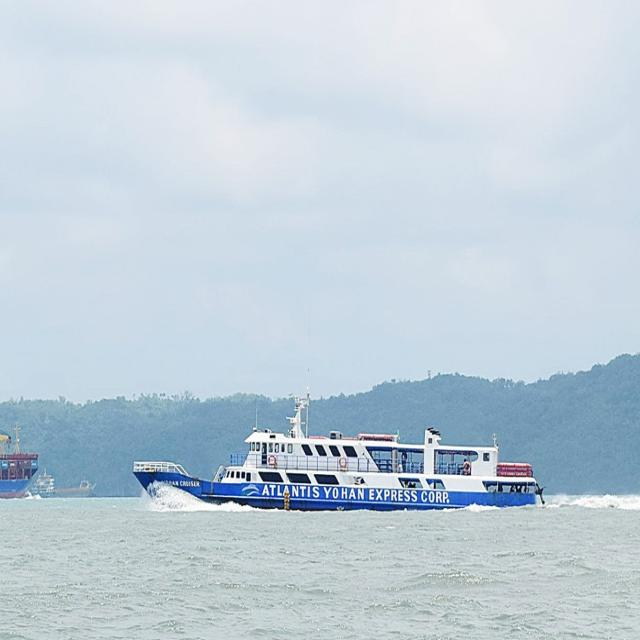houseboat: (124, 378, 554, 522)
